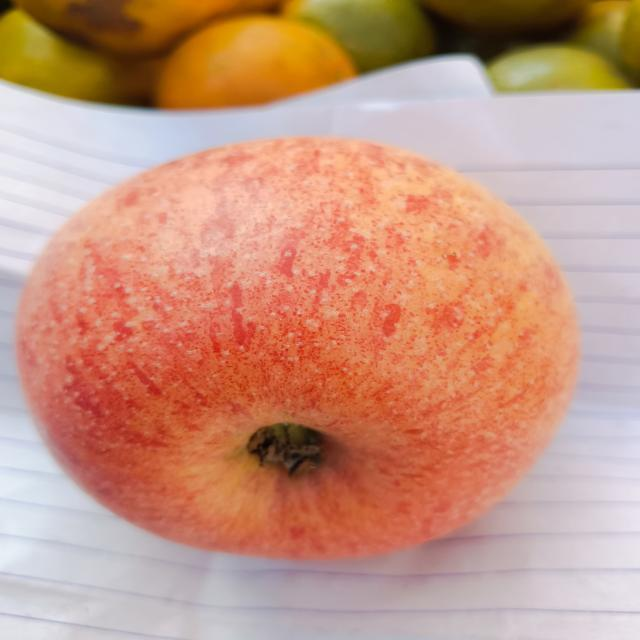Fresh Apple: (30, 145, 575, 580)
